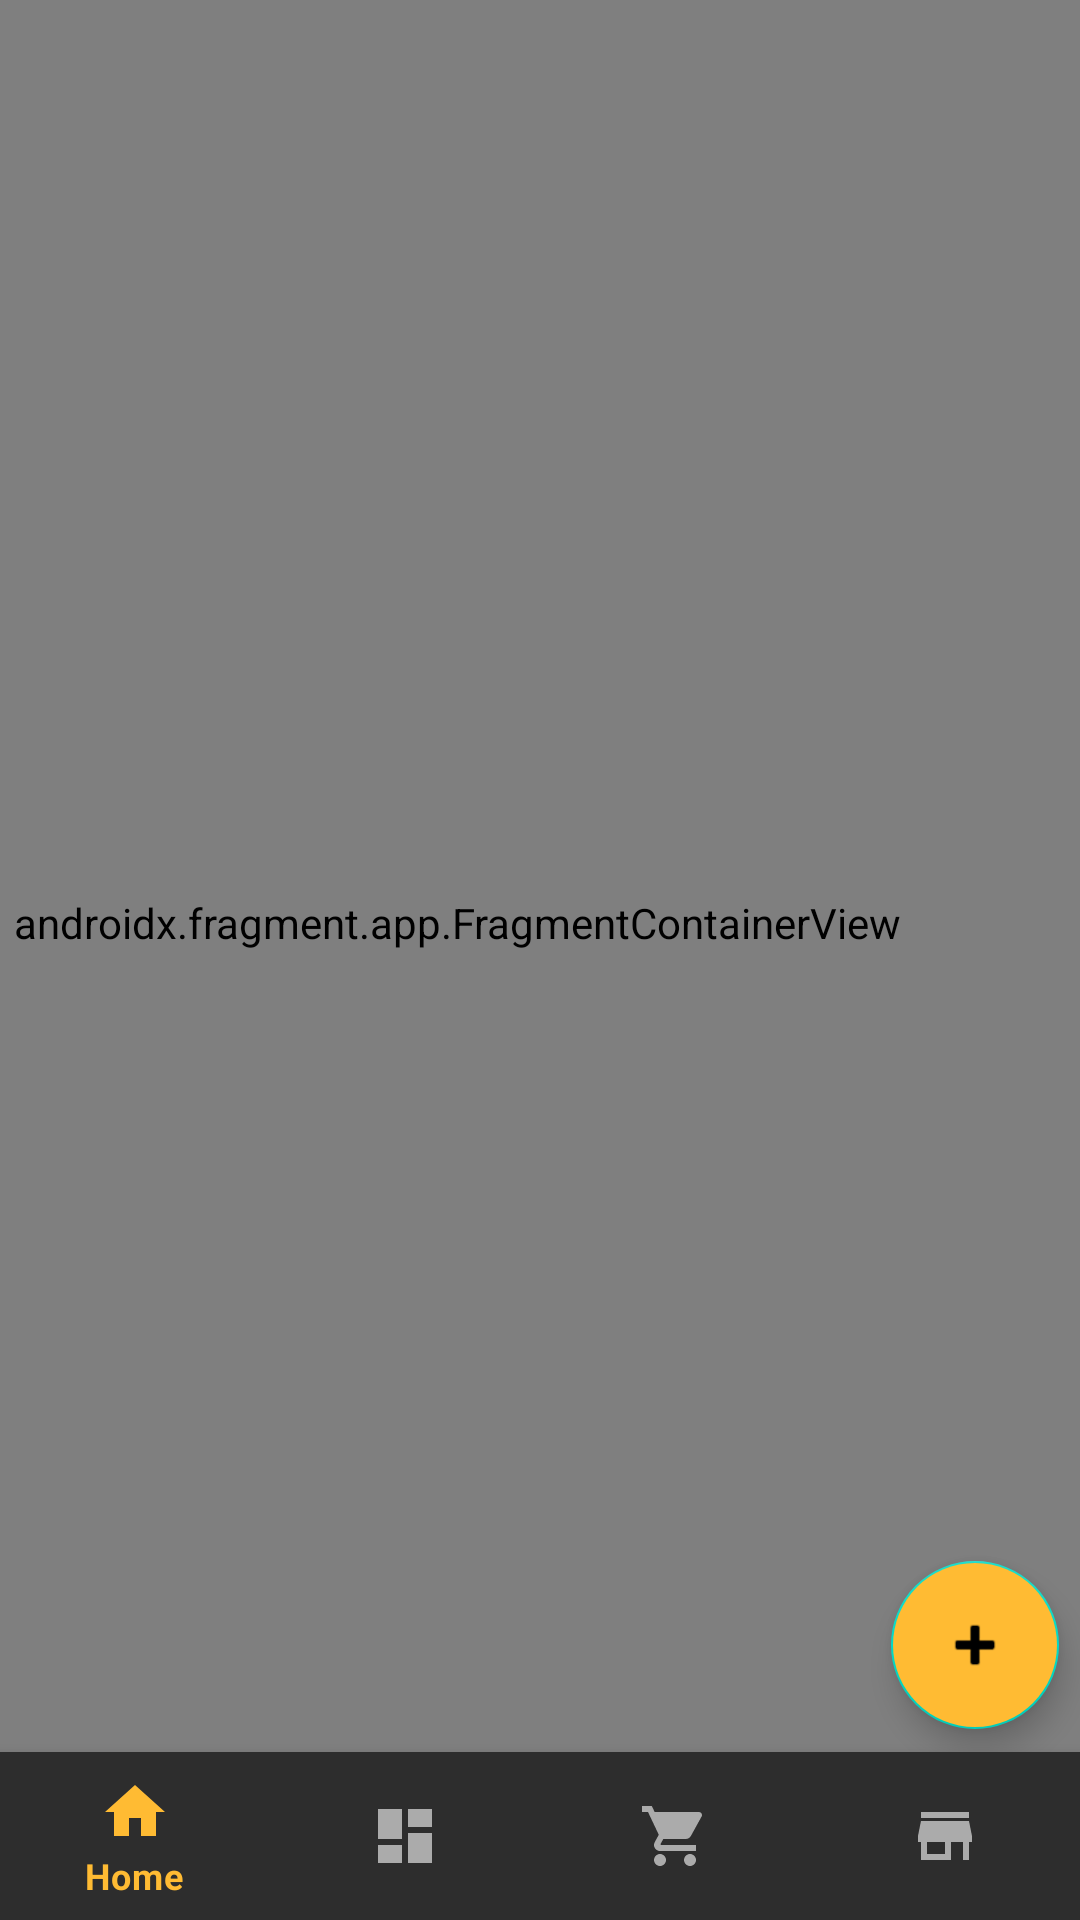

Named icons in this screenshot (1080w x 1920h) and their bounding boxes, (x1, y1, x2, y2):
add: (891, 1561, 1059, 1729)
